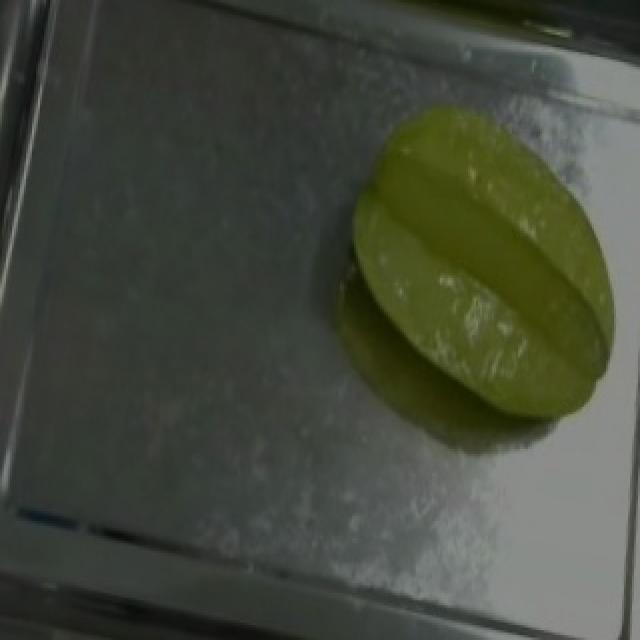fruit: (318, 77, 640, 446)
